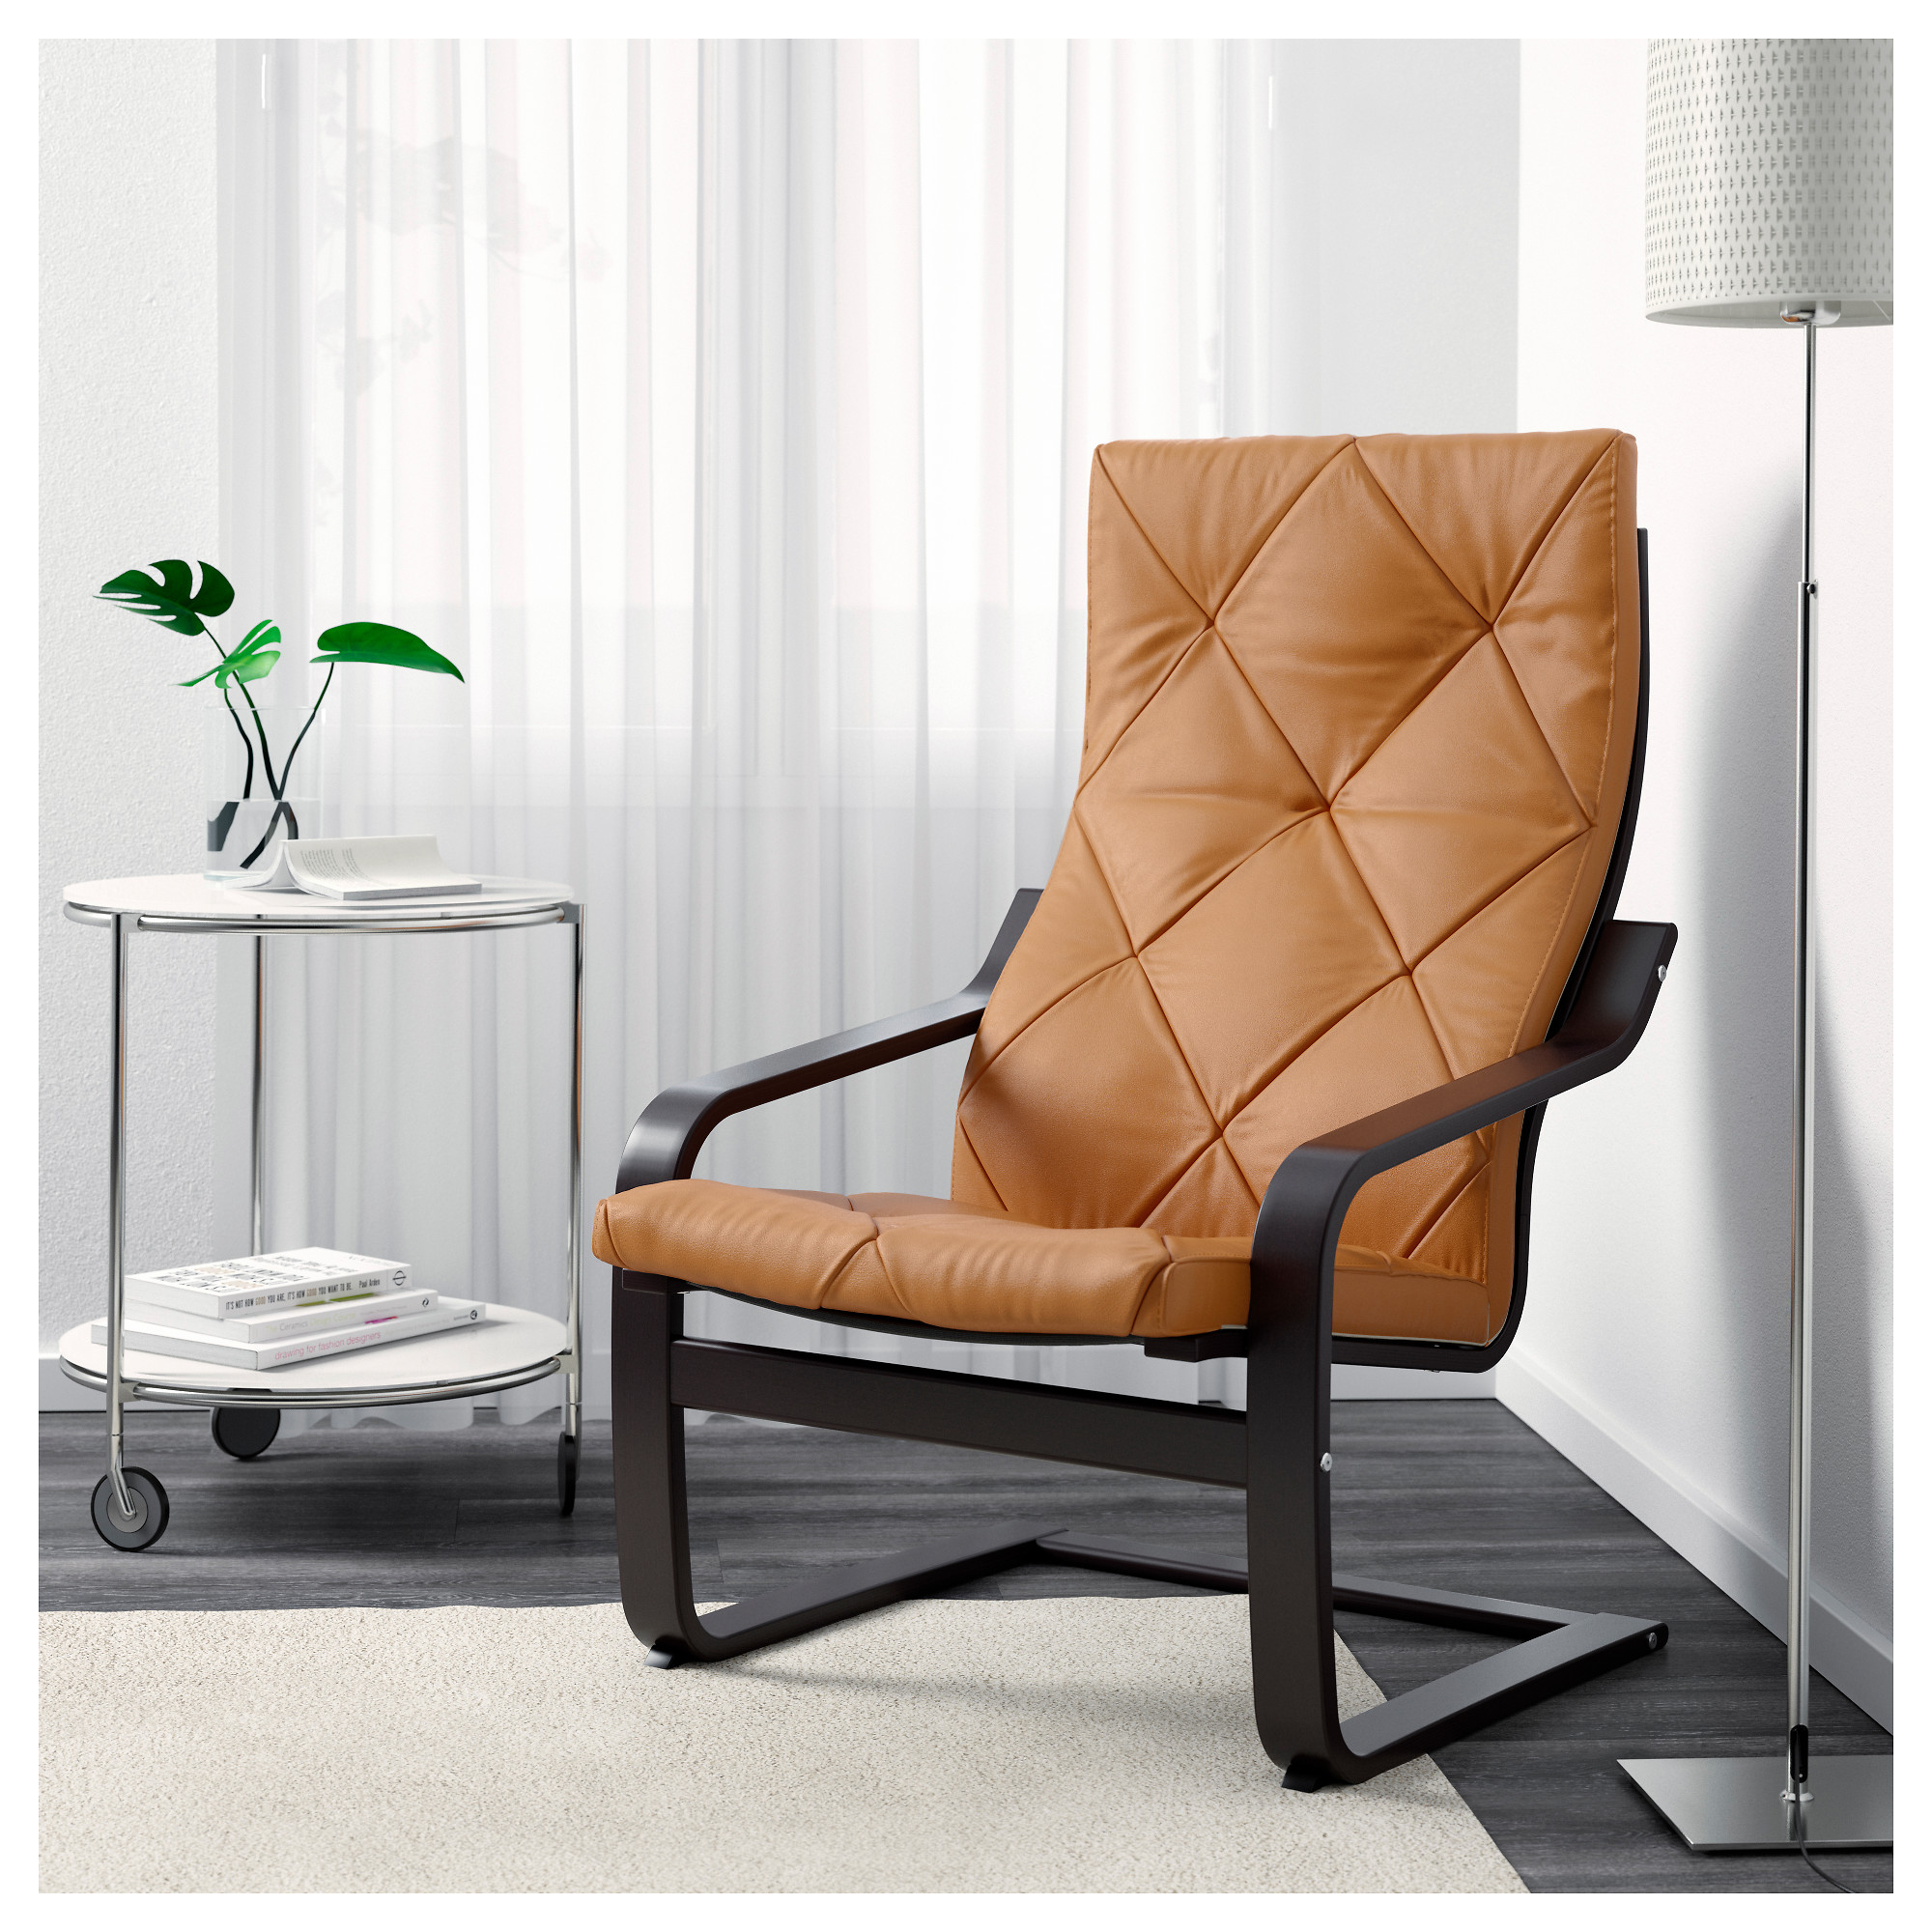chairs: (594, 435, 1683, 1790)
